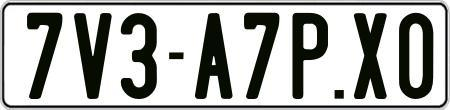0: (397, 12, 431, 104)
3: (120, 12, 156, 100)
7: (244, 11, 284, 99), (25, 12, 61, 100)
A: (195, 13, 236, 100)
P: (290, 11, 329, 100)
V: (74, 10, 116, 98)
X: (351, 10, 390, 102)
